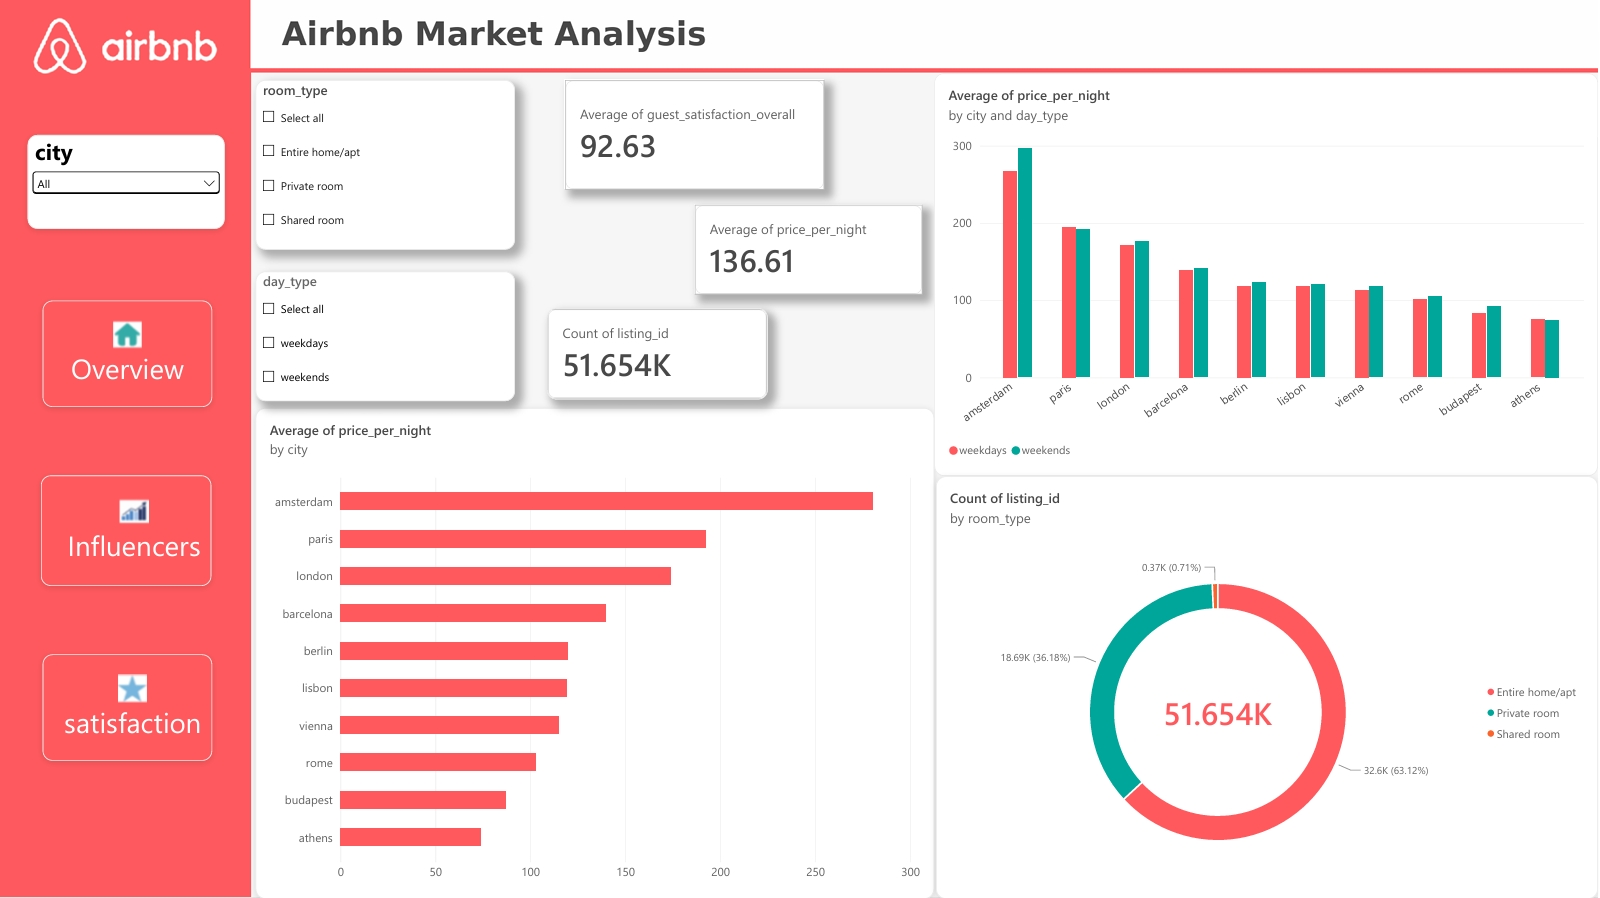

This screenshot's page, from the dashboard's own definition file:
{"tool":"powerbi","page":{"name":"Overview","canvas":[1920,1080],"ordinal":0},"visuals":[{"type":"clusteredBarChart","fields":{"Category":["dim_city.city"],"Y":["Avg(fact_listings.price_per_night)"]},"box":[306,490,816,590],"z":1000},{"type":"cardVisual","fields":{"Data":["Avg(fact_listings.price_per_night)"]},"box":[834,246,274,108],"z":2000},{"type":"cardVisual","fields":{"Data":["CountNonNull(fact_listings.listing_id)"]},"box":[656,370,266,110],"z":3000},{"type":"cardVisual","fields":{"Data":["Avg(fact_listings.guest_satisfaction_overall)"]},"box":[678,96,312,132],"z":4000},{"type":"slicer","fields":{"Values":["dim_city.city"]},"box":[32.1,162.5,237.1,112.2],"z":5000},{"type":"slicer","fields":{"Values":["dim_room_type.room_type"]},"box":[306,96,312,204],"z":6000},{"type":"slicer","fields":{"Values":["dim_day_type.day_type"]},"box":[306,326,312,156],"z":7000},{"type":"clusteredColumnChart","fields":{"Category":["dim_city.city"],"Series":["dim_day_type.day_type"],"Y":["Avg(fact_listings.price_per_night)"]},"box":[1122,88,798,484],"z":8000},{"type":"donutChart","fields":{"Category":["dim_room_type.room_type"],"Y":["CountNonNull(fact_listings.listing_id)"]},"box":[1124,572,796,508],"z":9000},{"type":"actionButton","box":[50,360.7,204.3,128.3],"z":10000},{"type":"actionButton","box":[48.2,571.4,204.5,132.1],"z":11000},{"type":"actionButton","box":[50,785.7,204,128],"z":12000}]}

Visuals, with their boxes on the page's 1920x1080 design canvas (x1, y1, x2, y2). These are canvas units, not pixel positions in the 1600x898 screenshot, which may show the page scaled, cropped or inside an application window:
clusteredBarChart - dim_city.city x Avg(fact_listings.price_per_night): (x1=306, y1=490, x2=1122, y2=1080)
cardVisual - Avg(fact_listings.price_per_night): (x1=834, y1=246, x2=1108, y2=354)
cardVisual - CountNonNull(fact_listings.listing_id): (x1=656, y1=370, x2=922, y2=480)
cardVisual - Avg(fact_listings.guest_satisfaction_overall): (x1=678, y1=96, x2=990, y2=228)
slicer - dim_city.city: (x1=32, y1=162, x2=269, y2=275)
slicer - dim_room_type.room_type: (x1=306, y1=96, x2=618, y2=300)
slicer - dim_day_type.day_type: (x1=306, y1=326, x2=618, y2=482)
clusteredColumnChart - dim_city.city x dim_day_type.day_type: (x1=1122, y1=88, x2=1920, y2=572)
donutChart - dim_room_type.room_type x CountNonNull(fact_listings.listing_id): (x1=1124, y1=572, x2=1920, y2=1080)
actionButton: (x1=50, y1=361, x2=254, y2=489)
actionButton: (x1=48, y1=571, x2=253, y2=704)
actionButton: (x1=50, y1=786, x2=254, y2=914)
